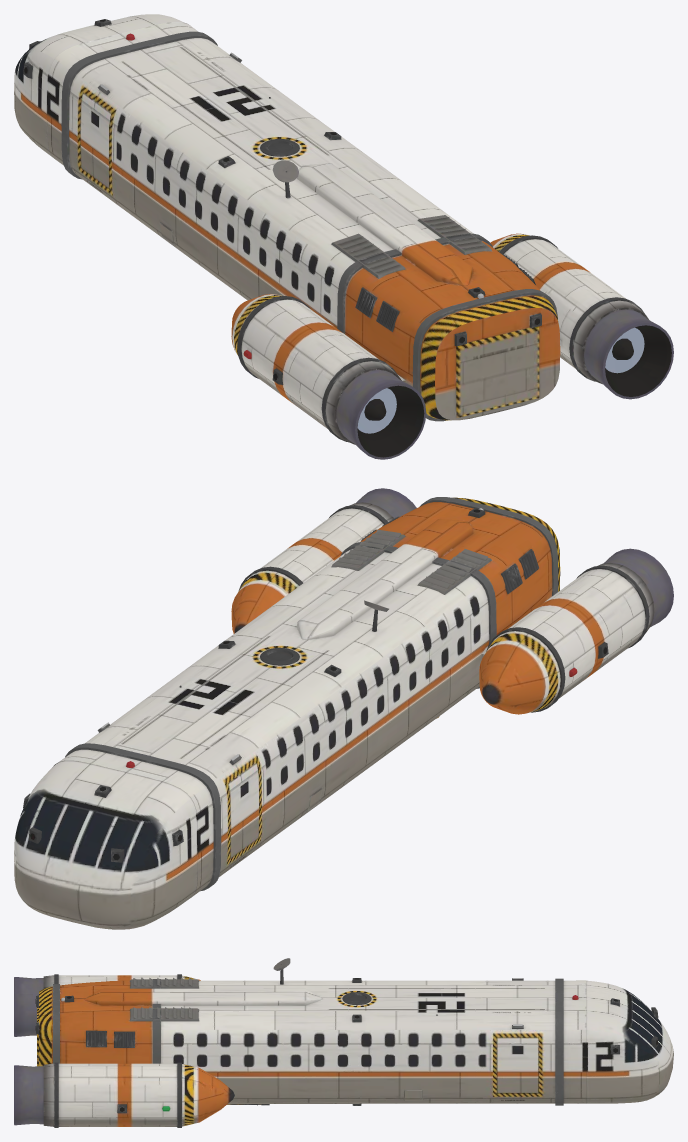
The model's file is shuttle.glb.
3 renders of one model, top to bottom at view 1: azimuth 30°, elevation 25°; view 2: azimuth 150°, elevation 25°; view 3: azimuth 270°, elevation 25°, orthographic. The views are drawn at different scales.
Parts seen in each view (by area): view 1: hull; view 2: hull; view 3: hull.
Boxes of the visible parts, box(x1,y1,x2,y2) form: hull: box(14, 14, 673, 459); hull: box(14, 488, 673, 929); hull: box(14, 958, 673, 1127).
Size of the model in its own units: 11.88 by 5.44 by 28.11.
1 material, 1 textured.
